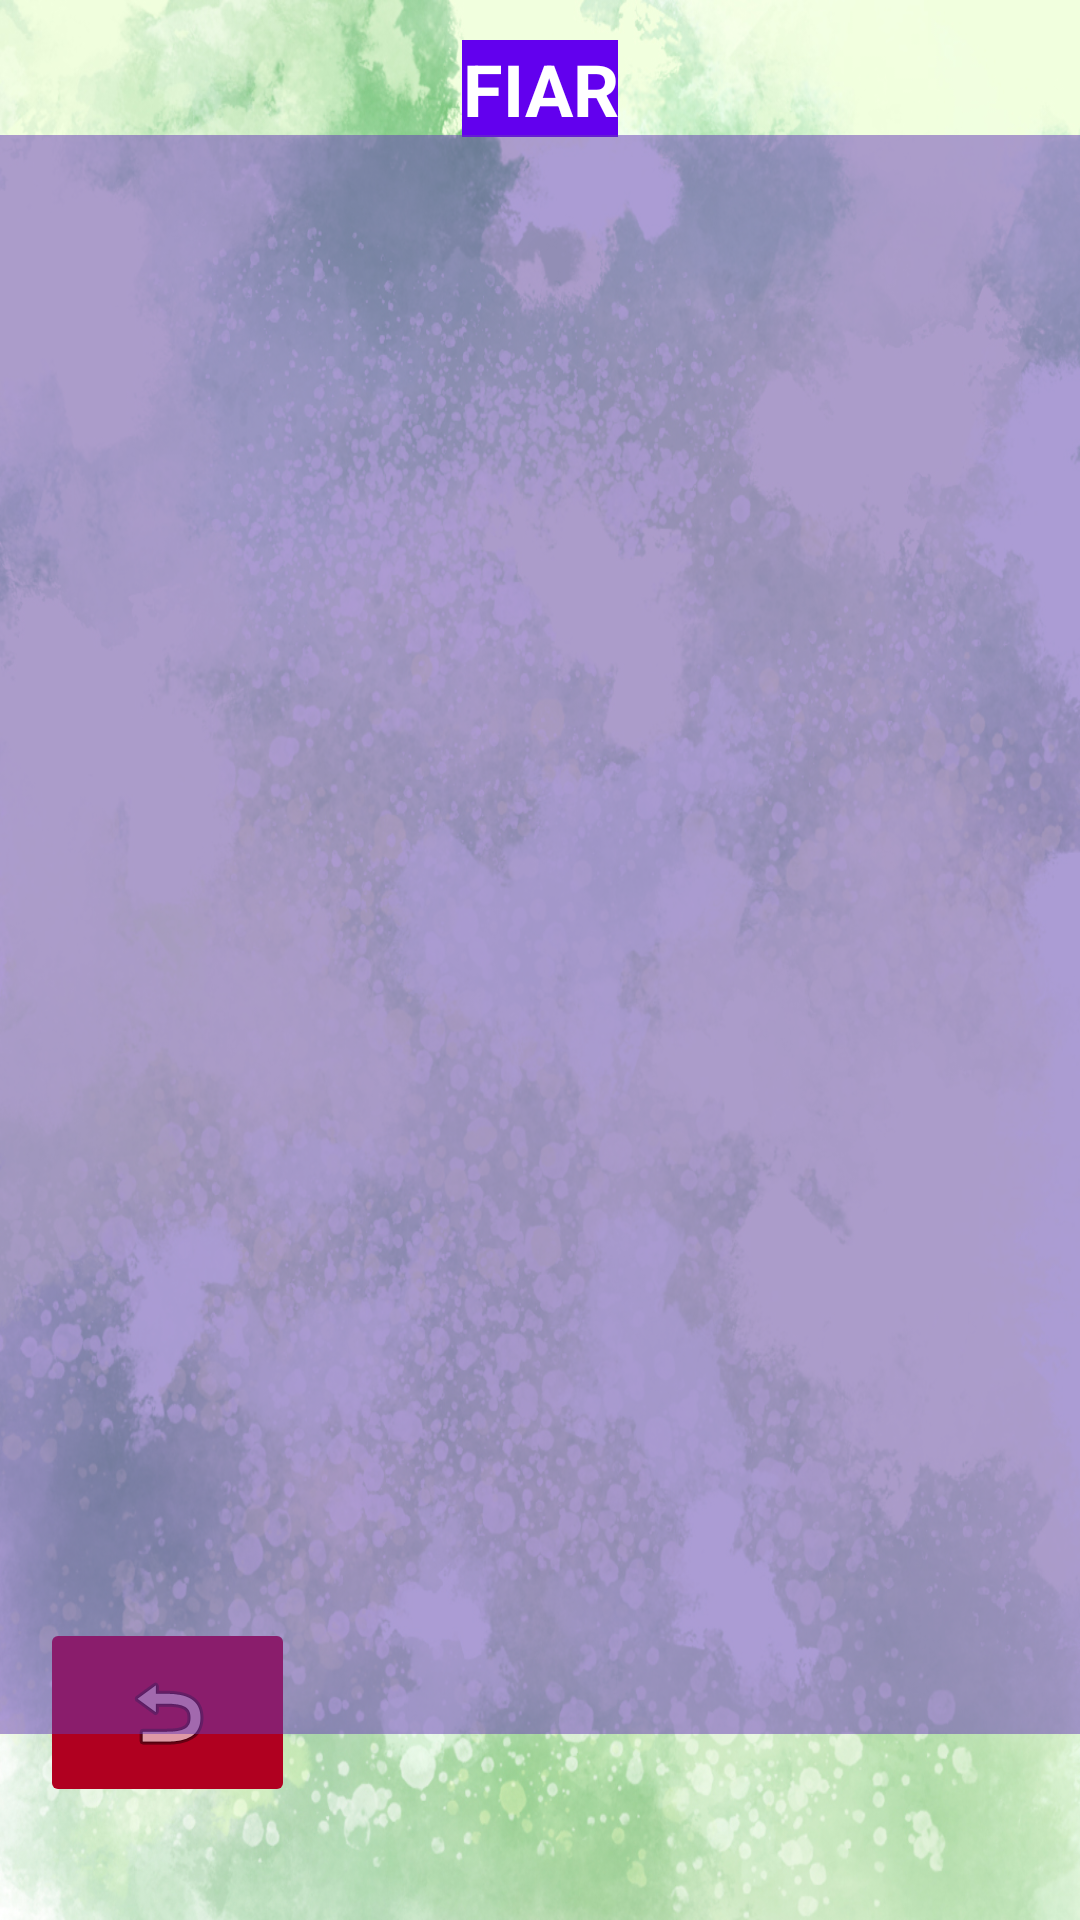

Where to tap for icons on this 1080*1920 app screen, as (x,y):
Volver: (167,1712)
